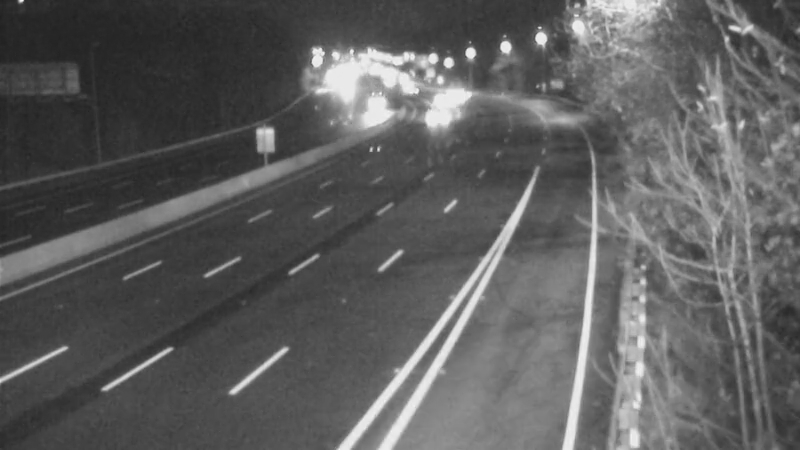vehicle: (413, 76, 463, 126), (412, 95, 462, 145), (351, 81, 401, 131)
